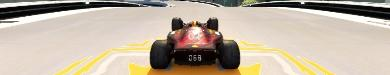Car: (149, 16, 240, 69)
Solid White and black: (40, 39, 340, 74)
curve: (0, 1, 389, 73)
obstacles-Borders: (0, 0, 147, 21)
